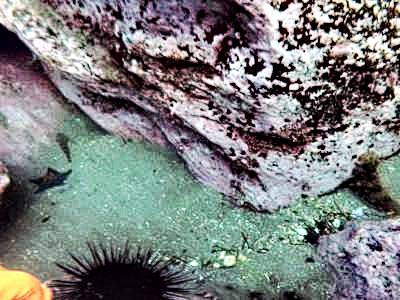urchin: (35, 236, 210, 298)
